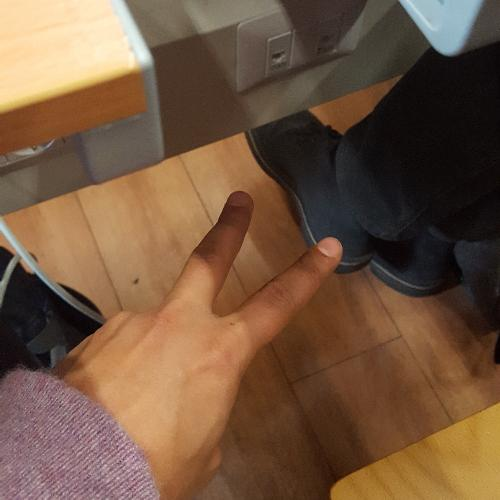scissors: (54, 184, 346, 500)
